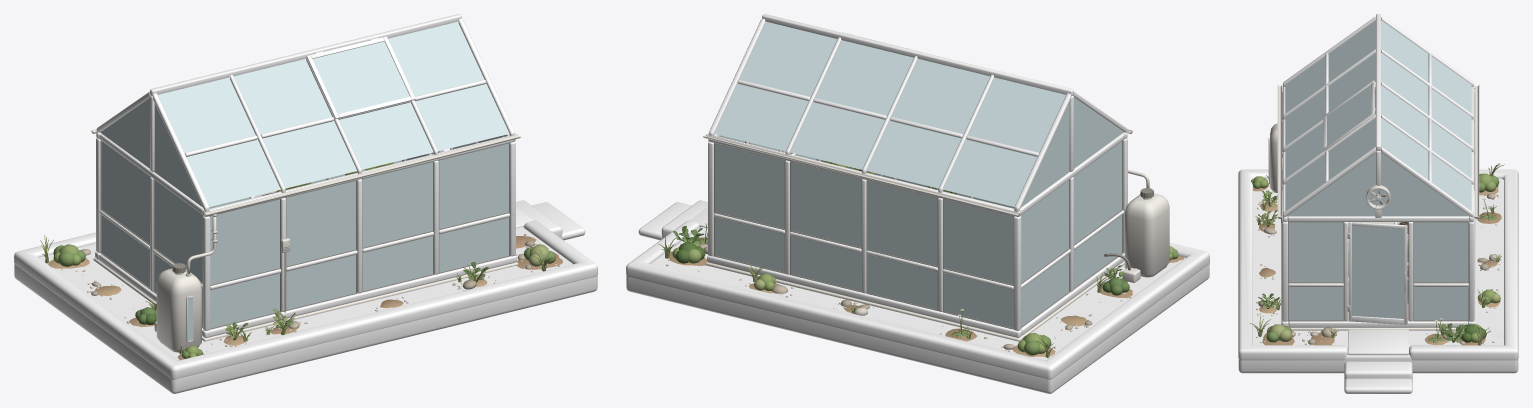
Rendered from vitreo.glb.
3 views of the same model, side by side, from view 1: azimuth 30°, elevation 25°; view 2: azimuth 150°, elevation 25°; view 3: azimuth 270°, elevation 25° (orthographic). The views are drawn at different scales.
Parts seen in each view (by area): view 1: glass_main, base, frame_main, gravel, vent_window, tank, frame_details, decor_plants, decor_ground, gutter, floor_main, steps; view 2: glass_main, base, frame_main, gravel, tank, frame_details, decor_plants, decor_ground, gutter, floor_main, steps; view 3: glass_main, base, frame_main, gravel, door_leaf, decor_plants, decor_ground, steps, vent_window, path, gutter, frame_details (+3 smaller).
Part boxes in pixels (x1,y1,x2,y2): glass_main: (100,21,509,328); base: (14,220,597,393); frame_main: (95,14,516,337); gravel: (38,227,572,360); vent_window: (306,36,415,119); tank: (156,263,201,352); frame_details: (100,139,514,334); decor_plants: (40,235,555,358); decor_ground: (48,234,562,360); gutter: (91,129,520,274); floor_main: (93,257,518,341); steps: (516,200,585,240); glass_main: (714,21,1123,328); base: (626,220,1209,393); frame_main: (707,14,1127,337); gravel: (651,227,1185,360); tank: (1124,188,1169,277); frame_details: (709,139,1123,335); decor_plants: (658,223,1178,357); decor_ground: (666,237,1184,356); gutter: (703,129,1149,216); floor_main: (705,261,1124,341); steps: (638,200,707,240); glass_main: (1285,20,1471,320); base: (1238,169,1518,373); frame_main: (1282,14,1474,327); gravel: (1253,178,1503,348); door_leaf: (1347,222,1407,324); decor_plants: (1249,163,1504,345); decor_ground: (1253,183,1501,345); steps: (1344,361,1412,393); vent_window: (1323,80,1375,151); path: (1348,329,1408,355); gutter: (1277,85,1479,218); frame_details: (1281,186,1475,323).
Size of the model in its own units: 1.34 by 0.628 by 0.7812.
